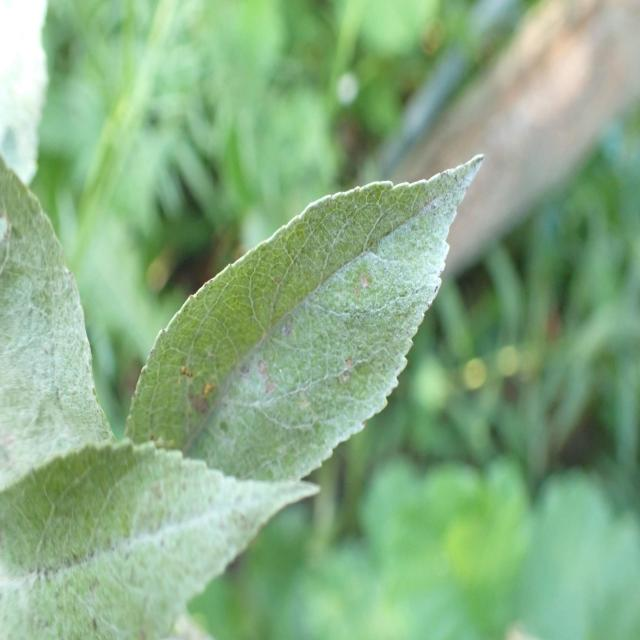Powdery_mildew: (127, 147, 496, 490), (0, 426, 351, 640), (0, 136, 114, 465)
